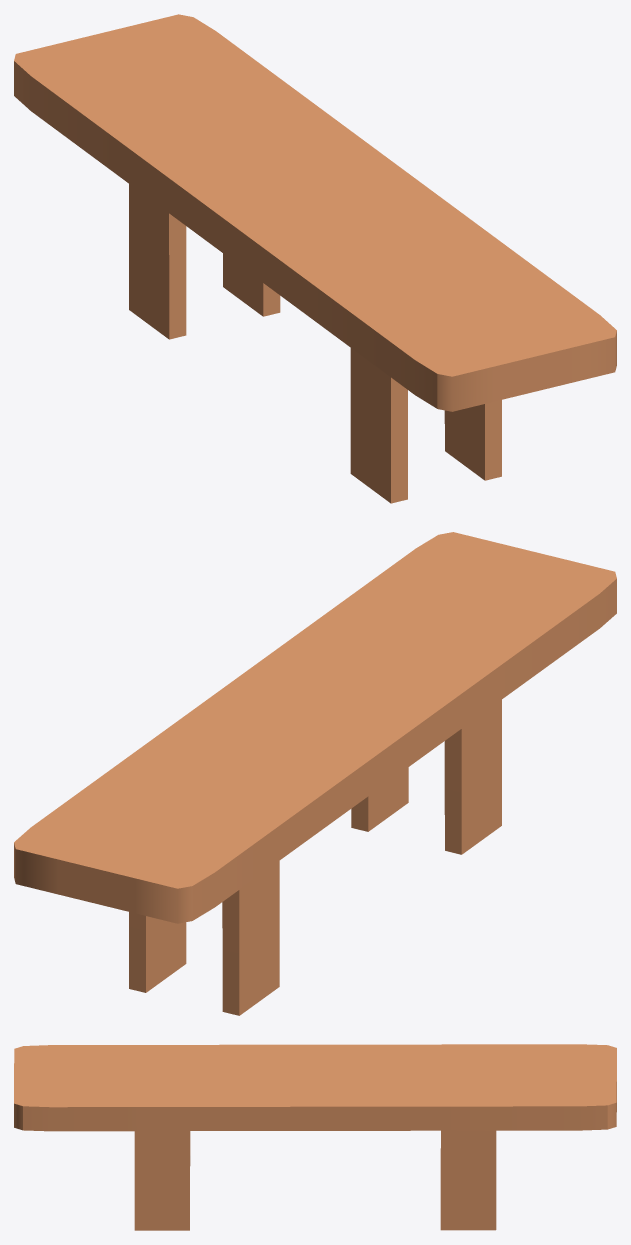
File: zhuozi.fbx
3 views of the same model, one above another, from view 1: azimuth 30°, elevation 25°; view 2: azimuth 150°, elevation 25°; view 3: azimuth 270°, elevation 25° (orthographic). The views are drawn at different scales.
Visible parts, largest first — view 1: 桌子; view 2: 桌子; view 3: 桌子.
Boxes of the visible parts, x1,y1,x2,y2 form: 桌子: (14,14,616,503); 桌子: (14,532,616,1015); 桌子: (14,1044,616,1230).
Size of the model in its own units: 11.52 by 11.79 by 46.98.
